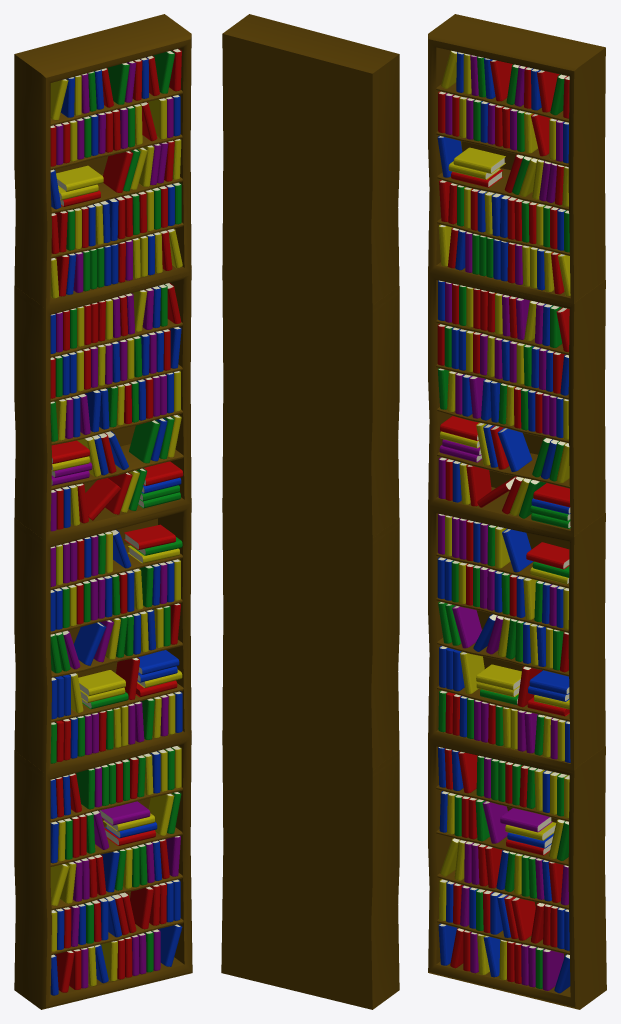
File: bookshelf_1.fbx
The picture shows the model from 3 angles, left to right: view 1: azimuth 30°, elevation 25°; view 2: azimuth 150°, elevation 25°; view 3: azimuth 330°, elevation 25°; orthographic projection.
Parts seen in each view (by area): view 1: books, shelf; view 2: shelf; view 3: books, shelf.
Part boxes in pixels (bbox=[...]): books: bbox=[50, 48, 183, 995]; shelf: bbox=[14, 14, 192, 1009]; shelf: bbox=[221, 14, 399, 1009]; books: bbox=[437, 50, 570, 993]; shelf: bbox=[428, 14, 606, 1009].
Size of the model in its own units: 94.85 by 563 by 31.41.
